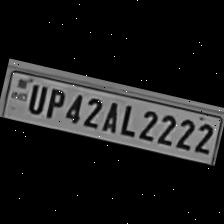2: (133, 104, 160, 142), (80, 92, 106, 129), (152, 109, 178, 146), (172, 114, 198, 150), (190, 118, 216, 154)
4: (60, 88, 86, 124)
A: (98, 96, 123, 134)
L: (116, 100, 140, 137)
P: (40, 82, 68, 120)
U: (22, 78, 48, 114)
